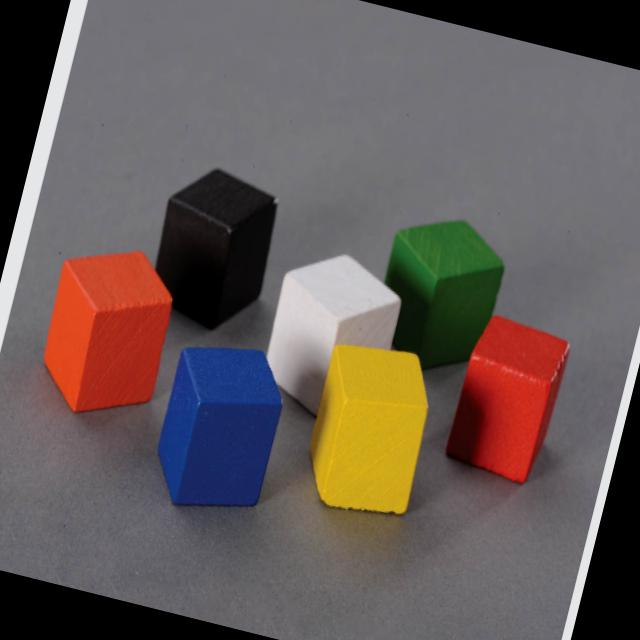bluecube: (155, 348, 283, 505)
green cube: (386, 220, 507, 369)
red cube: (443, 313, 573, 485)
